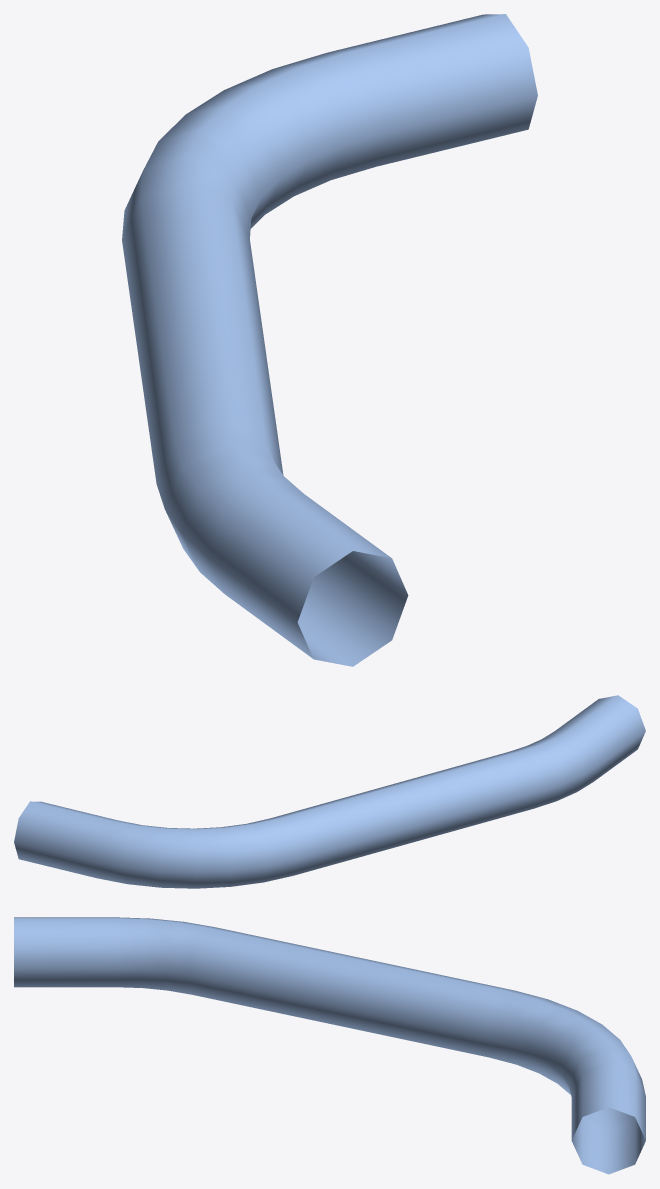
Rendered from PipeSmall_BentSpecial_09.fbx.
3 views of the same model, one above another, from view 1: azimuth 30°, elevation 25°; view 2: azimuth 150°, elevation 25°; view 3: azimuth 270°, elevation 25° (orthographic). The views are drawn at different scales.
Visible parts, largest first — view 1: PipeSmall_BentSpecial_09.001; view 2: PipeSmall_BentSpecial_09.001; view 3: PipeSmall_BentSpecial_09.001.
Boxes of the visible parts, <box> form: PipeSmall_BentSpecial_09.001: <box>122,14,537,666</box>; PipeSmall_BentSpecial_09.001: <box>14,695,645,888</box>; PipeSmall_BentSpecial_09.001: <box>14,917,645,1174</box>.
Size of the model in its own units: 0.65 by 0.1 by 0.85.
